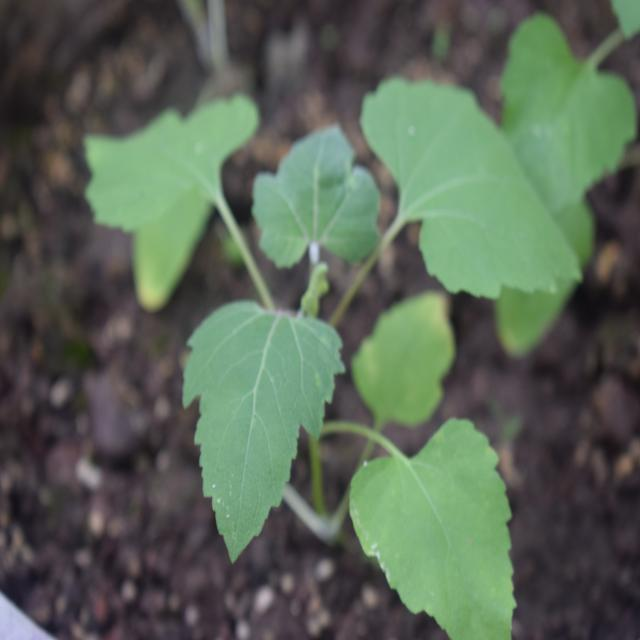cocklebur: (106, 71, 540, 616)
